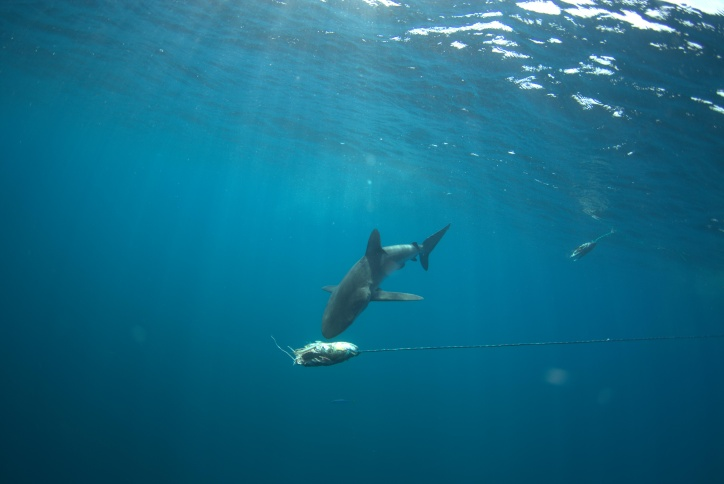Sedoso: (309, 197, 467, 343)
